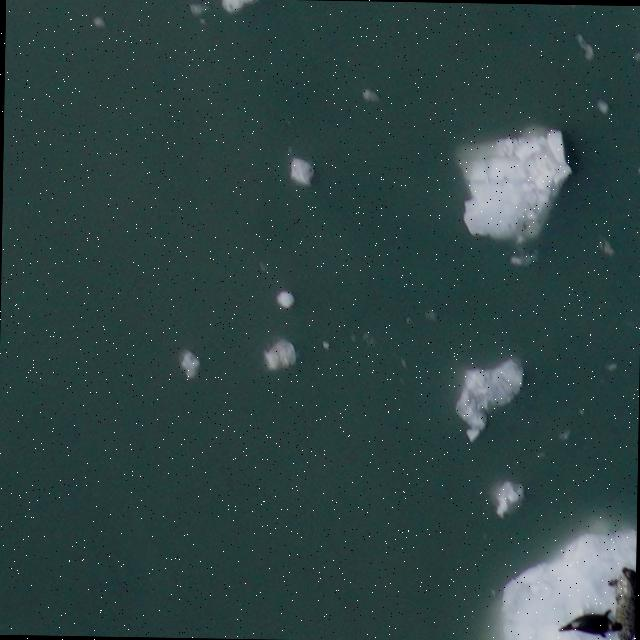seal: (601, 563, 636, 640), (552, 604, 625, 640)
